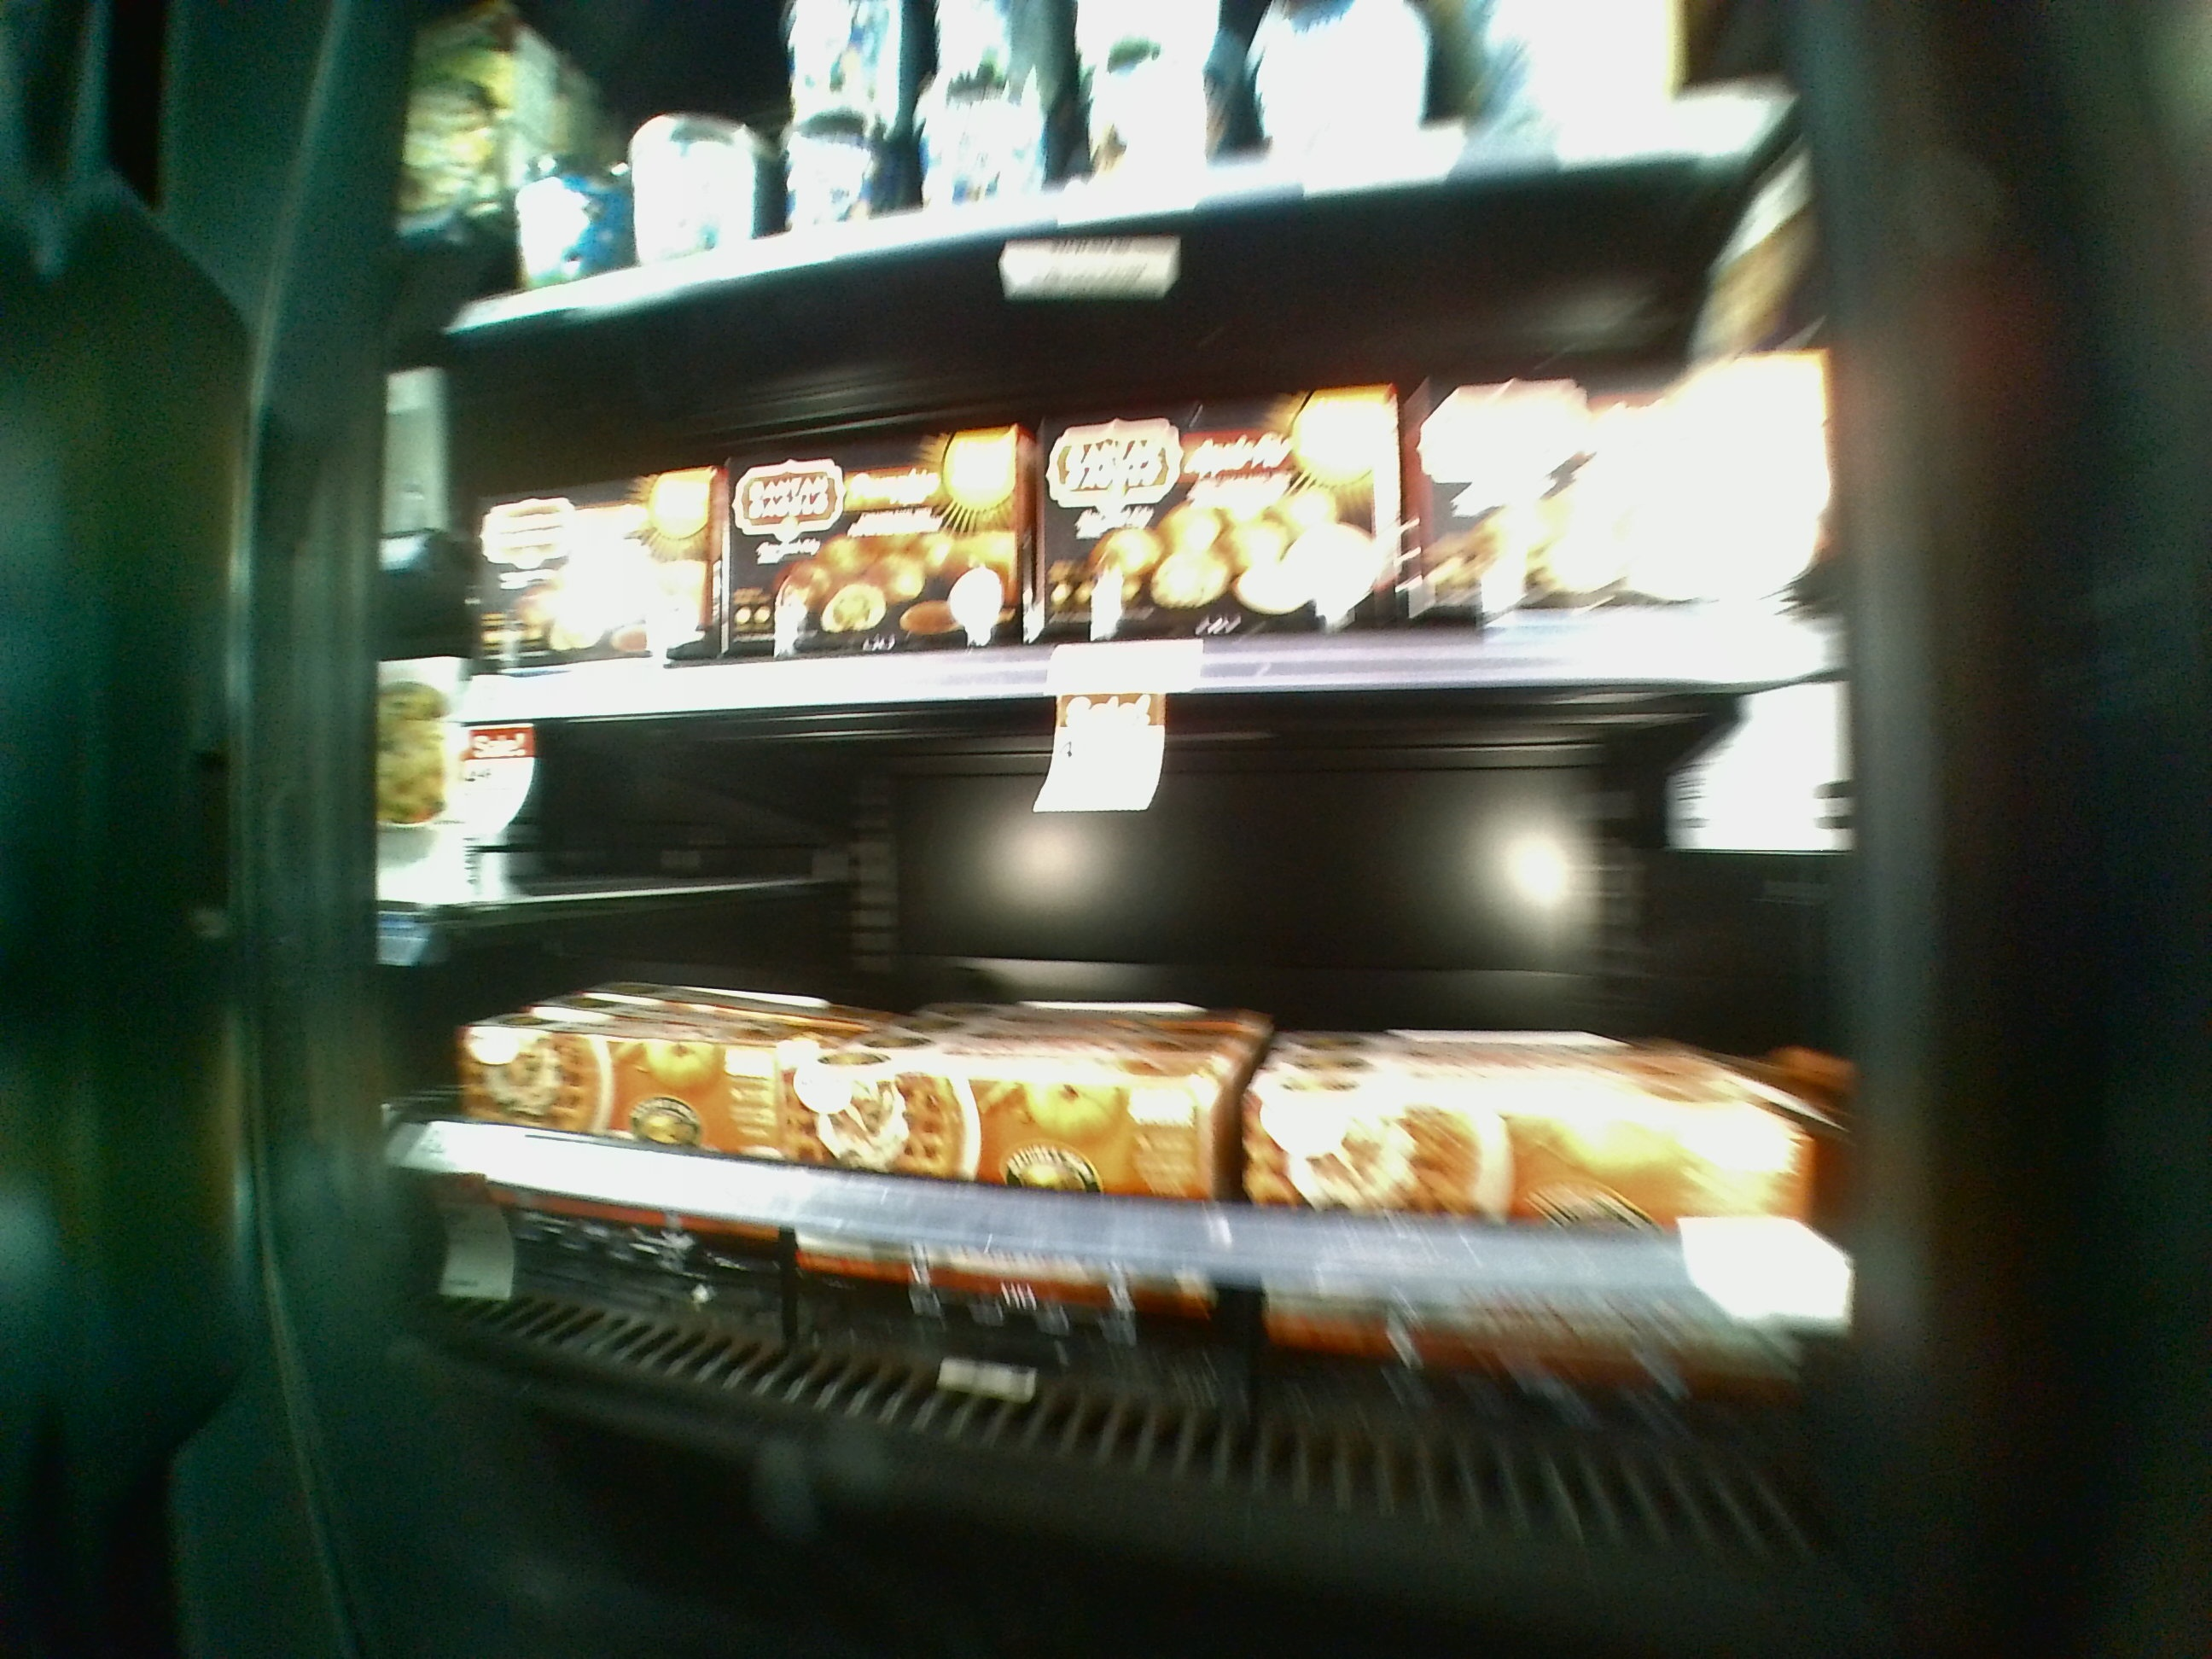shelf: (420, 641, 1864, 1544), (435, 207, 1810, 674)
